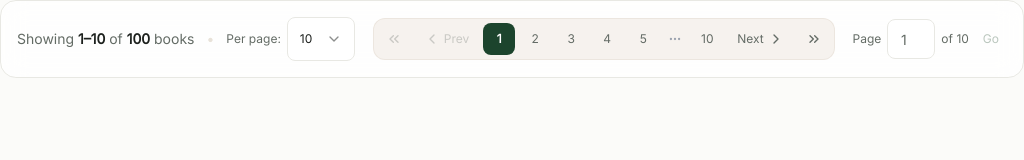
LibraryPagination › handles jump to page input and validation
This screenshot has width=1024, height=160.
Later steps or results of the test are not shown.
Expected: the button "Go" is disabled, [975,21,1007,57]
Type "7" into the number field named "Page number to jump to" at (911, 39), box [887,19,935,59]
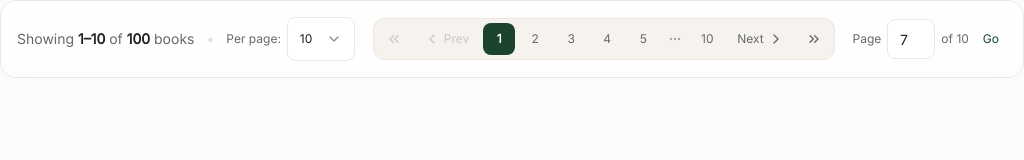
Result: the button "Go" is enabled at [975,21,1007,57]
